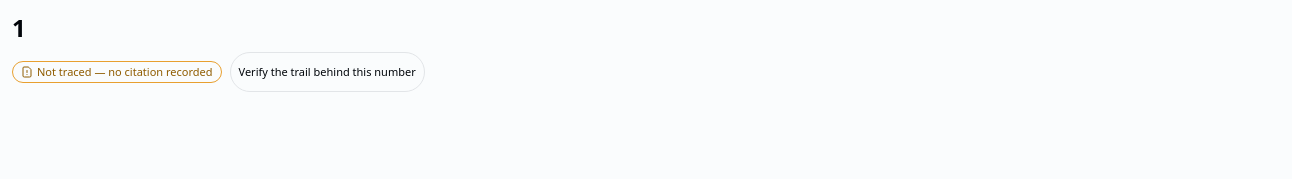
TraceableFigure › reports an empty chain as 'nothing was checked' and not as a pass
Click the button "Verify the trail behind this number". click: (327, 72)
box: [230,52,425,92]
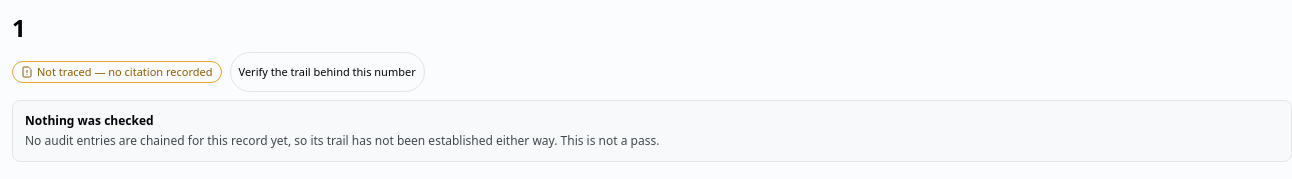
Result: the text "Nothing was checked" is shown at [25,112,154,129]
Result: the text "this is not a pass" is shown at [25,132,659,149]
